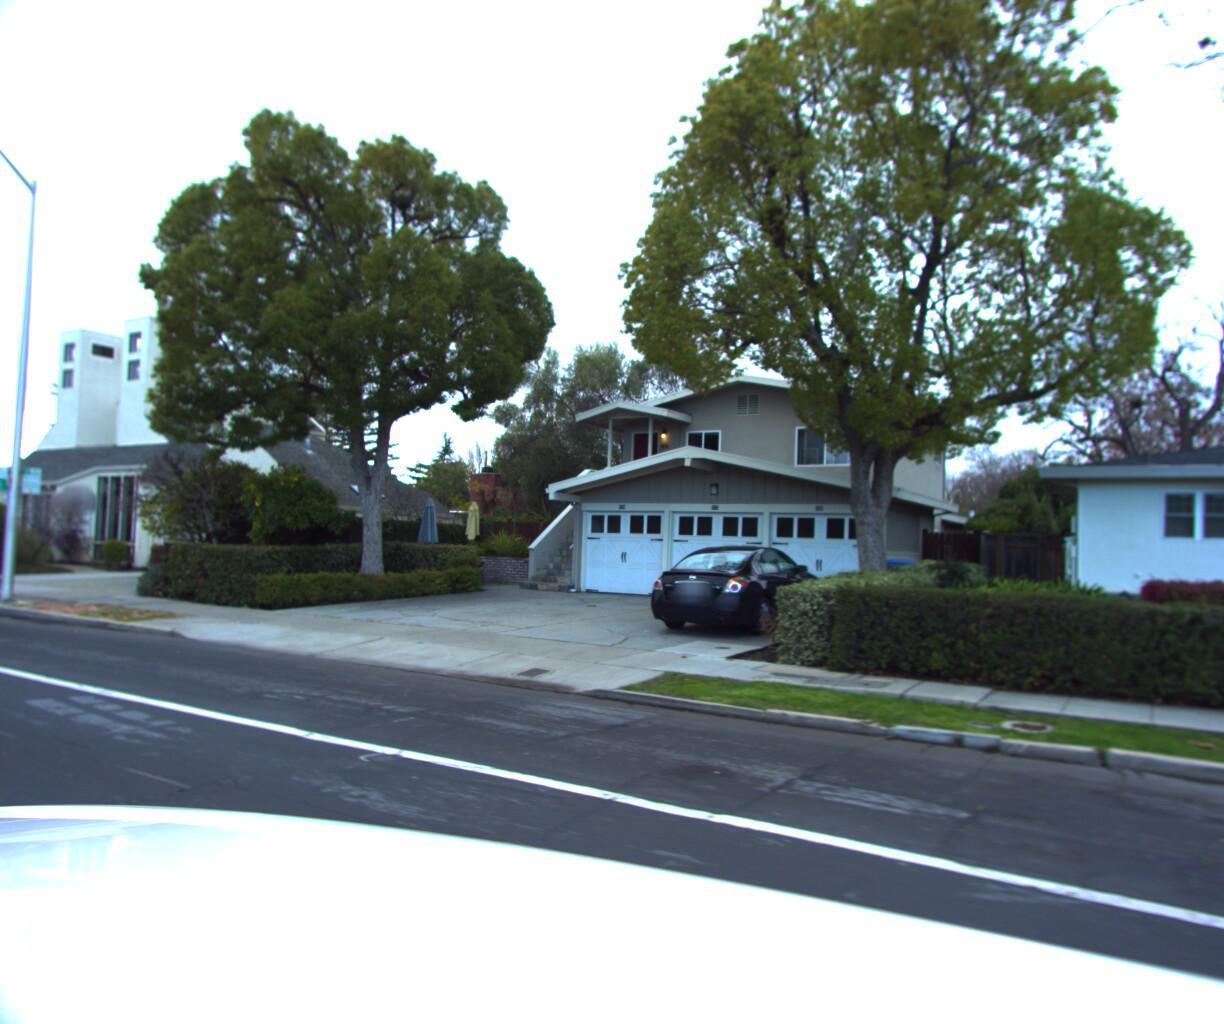car: (635, 533, 833, 637)
